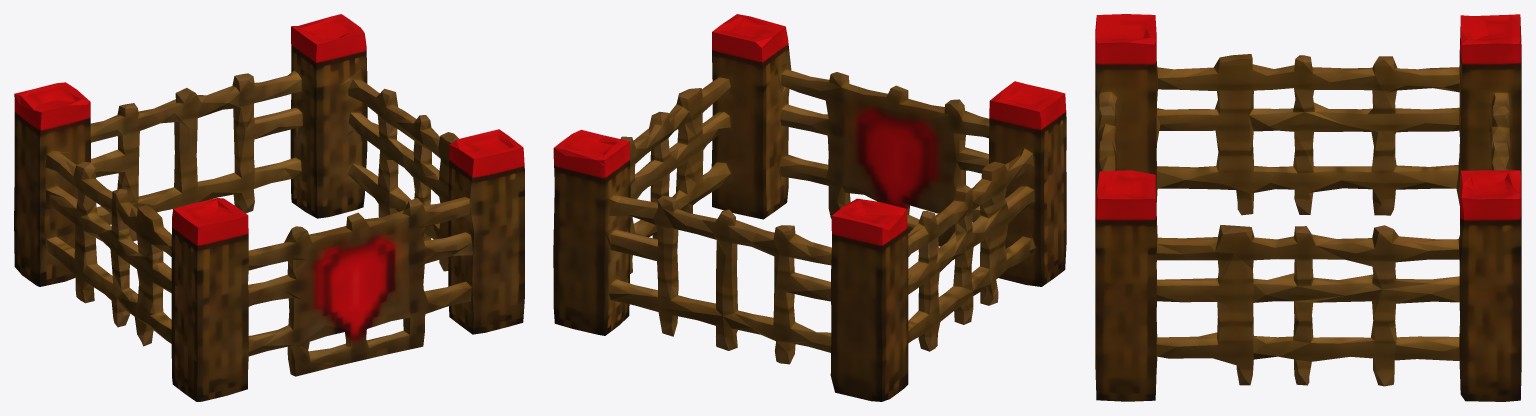
File: spawn_pen_red.glb
3 renders of one model, left to right at view 1: azimuth 30°, elevation 25°; view 2: azimuth 150°, elevation 25°; view 3: azimuth 270°, elevation 25°, orthographic. The views are drawn at different scales.
Parts seen in each view (by area): view 1: Mesh; view 2: Mesh; view 3: Mesh.
Boxes of the visible parts, x1,y1,x2,y2 form: Mesh: (14,14,524,401); Mesh: (553,14,1066,401); Mesh: (1095,14,1521,401).
Bounding box in the file's own units: 1.9 × 0.9801 × 1.85.
Materials: 1 (1 with a texture image).
